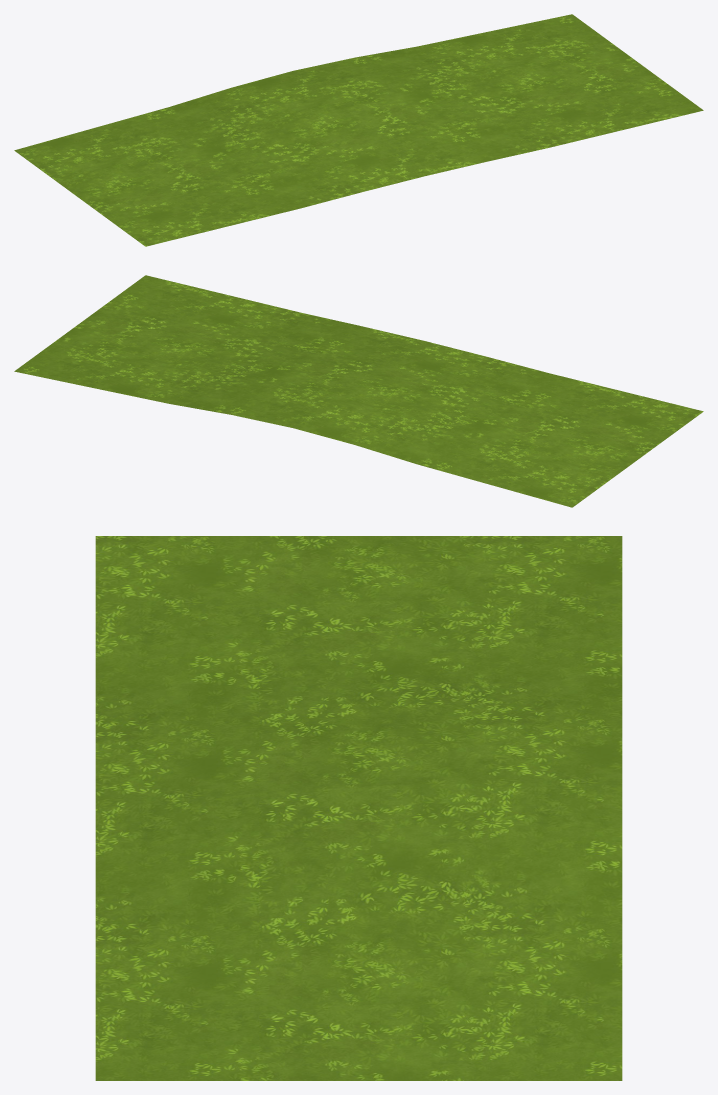
Rendered from Market_Land.fbx.
3 renders of one model, top to bottom at view 1: azimuth 30°, elevation 25°; view 2: azimuth 150°, elevation 25°; view 3: azimuth 270°, elevation 25°, orthographic. The views are drawn at different scales.
Parts seen in each view (by area): view 1: Plane; view 2: Plane; view 3: Plane.
Boxes of the visible parts, left/top/right/bottom form: Plane: left=14, top=14, right=703, bottom=246; Plane: left=14, top=275, right=703, bottom=507; Plane: left=95, top=536, right=622, bottom=1080.
Size of the model in its own units: 47529 by 1049 by 19407.
Materials: 1 (1 with a texture image).
